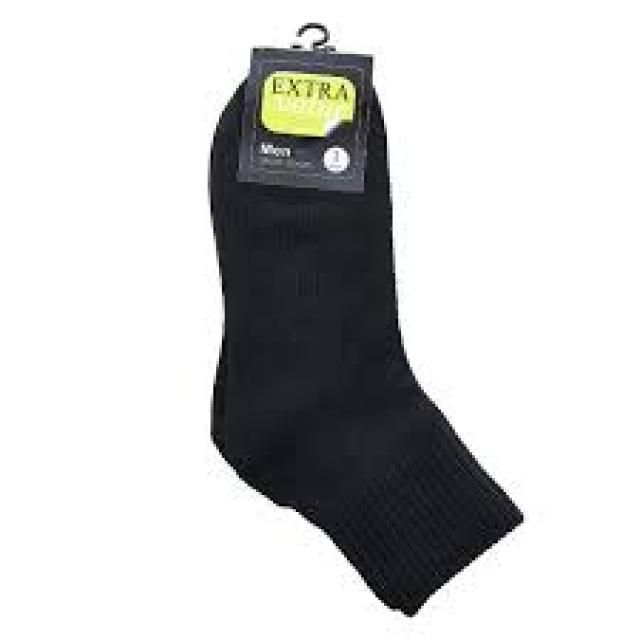sock: (205, 23, 523, 617)
